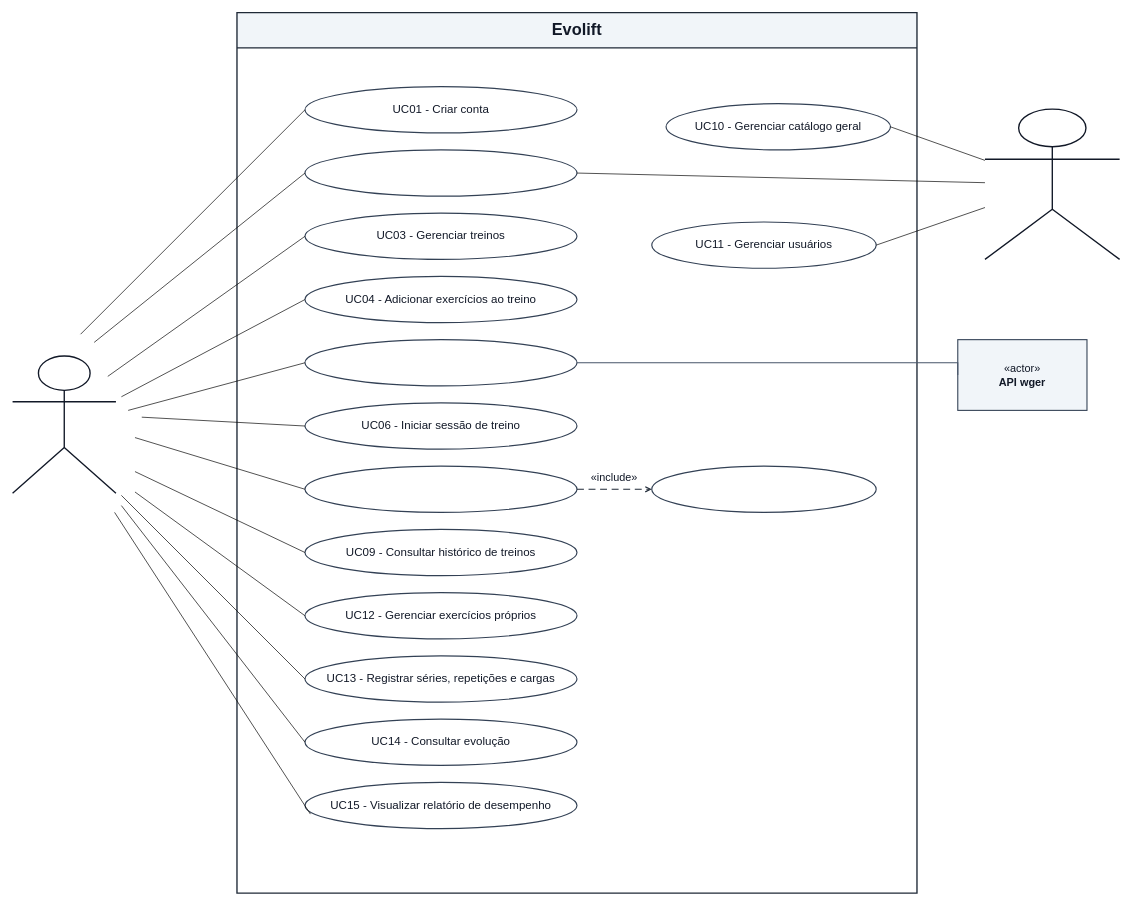
The diagram is 1132 pixels wide and 905 high, and some of its shapes have lost their labels. The box of each missing label's shape, as (x1, y1, x2, y2) in pixels:
Administrador: (984, 108, 1120, 260)
UC02 - Fazer login: (304, 149, 577, 196)
UC05 - Buscar exercícios: (304, 339, 577, 386)
UC07 - Concluir sessão de treino: (304, 465, 577, 513)
UC08 - Gerar resumo da sessão: (651, 465, 876, 513)
Usuário: (12, 355, 116, 494)
